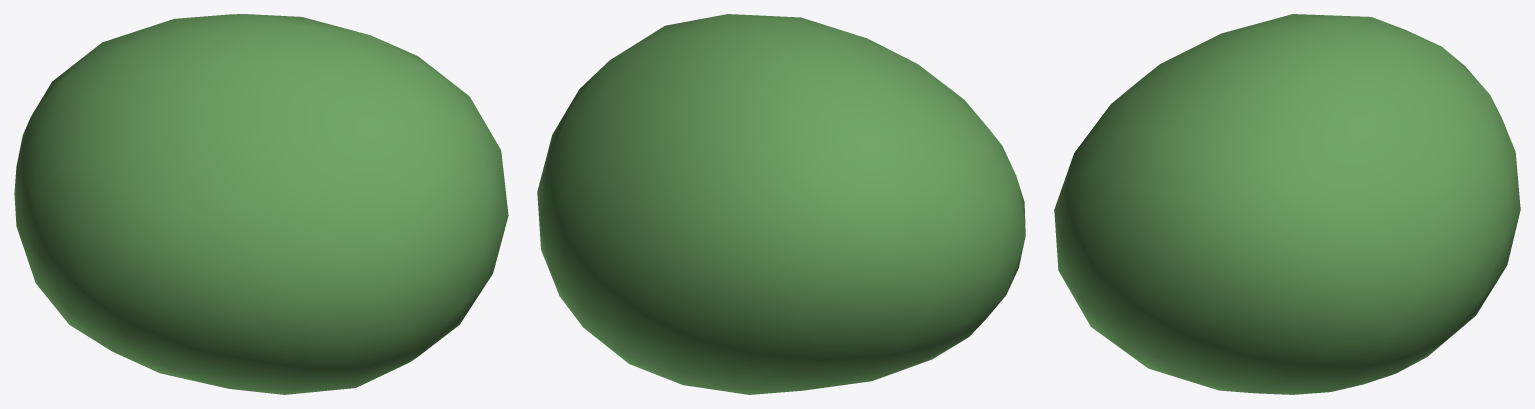
The model's file is bush.glb.
The picture shows the model from 3 angles, left to right: view 1: azimuth 30°, elevation 25°; view 2: azimuth 150°, elevation 25°; view 3: azimuth 270°, elevation 25°; orthographic projection. The views are drawn at different scales.
Visible parts, largest first — view 1: b; view 2: b; view 3: b.
Part boxes in pixels (bbox=[...]): b: bbox=[14, 14, 508, 394]; b: bbox=[537, 14, 1025, 394]; b: bbox=[1054, 14, 1520, 394].
Size of the model in its own units: 0.9374 by 0.6826 by 0.9.
